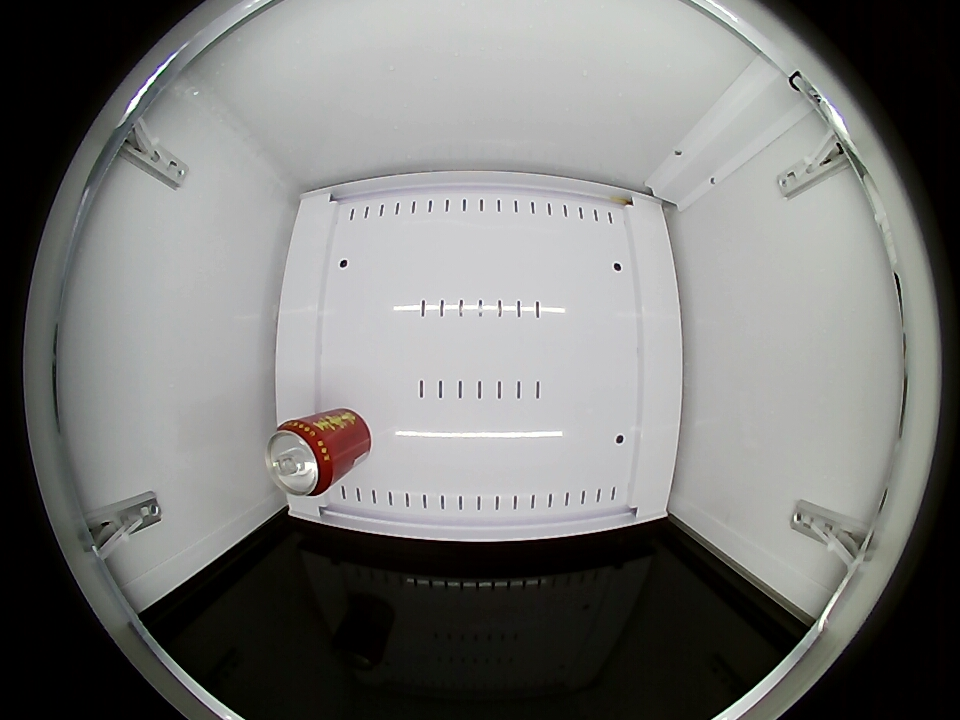wanglaoji-c: (265, 418, 338, 496)
